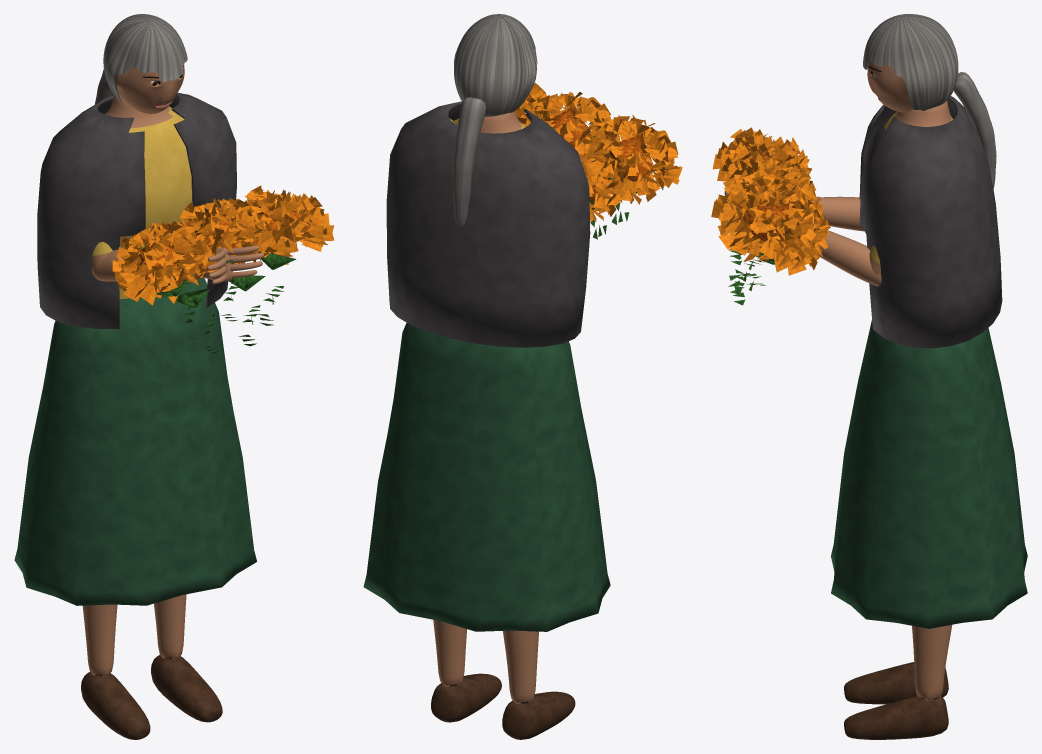
The model's file is persona_mujer_flores.obj.
The picture shows the model from 3 angles, left to right: view 1: azimuth 30°, elevation 25°; view 2: azimuth 150°, elevation 25°; view 3: azimuth 270°, elevation 25°; orthographic projection.
Visible parts, largest first — view 1: persona_mujer_flores, Flor_Cempasuchil.001, Flor_Cempasuchil.003, Flor_Cempasuchil.002, Flor_Cempasuchil.005, Flor_Cempasuchil.004; view 2: persona_mujer_flores, Flor_Cempasuchil.001, Flor_Cempasuchil.002, Flor_Cempasuchil.004, Flor_Cempasuchil.003; view 3: persona_mujer_flores, Flor_Cempasuchil.003, Flor_Cempasuchil.002, Flor_Cempasuchil.005, Flor_Cempasuchil.001.
Part boxes in pixels (bbox=[...]): persona_mujer_flores: bbox=[14, 14, 263, 739]; Flor_Cempasuchil.001: bbox=[112, 221, 207, 340]; Flor_Cempasuchil.003: bbox=[232, 185, 334, 325]; Flor_Cempasuchil.002: bbox=[173, 198, 267, 321]; Flor_Cempasuchil.005: bbox=[206, 214, 298, 346]; Flor_Cempasuchil.004: bbox=[144, 243, 220, 353]; persona_mujer_flores: bbox=[363, 14, 610, 739]; Flor_Cempasuchil.001: bbox=[579, 115, 682, 224]; Flor_Cempasuchil.002: bbox=[525, 92, 619, 166]; Flor_Cempasuchil.004: bbox=[578, 147, 636, 239]; Flor_Cempasuchil.003: bbox=[514, 82, 560, 125]; persona_mujer_flores: bbox=[724, 14, 1027, 739]; Flor_Cempasuchil.003: bbox=[711, 172, 817, 294]; Flor_Cempasuchil.002: bbox=[717, 143, 812, 264]; Flor_Cempasuchil.005: bbox=[733, 184, 830, 305]; Flor_Cempasuchil.001: bbox=[712, 127, 811, 259].
Bounding box in the file's own units: 0.5356 × 1.62 × 0.6615.
Materials: 16 (16 with a texture image).
